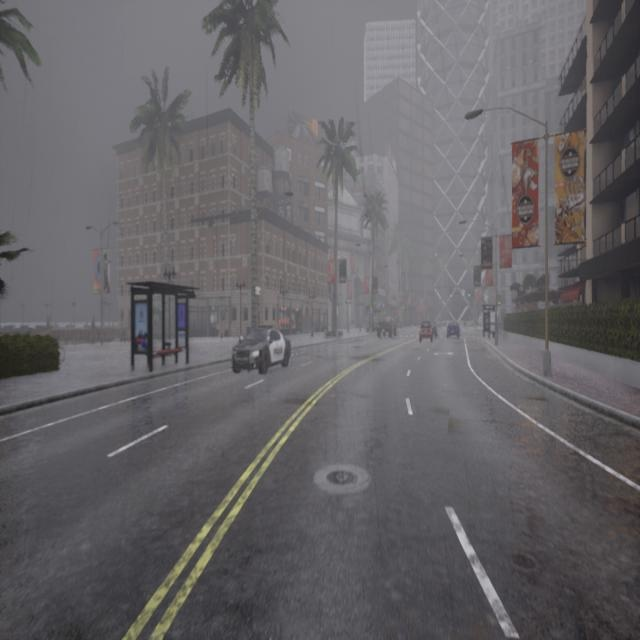bien_chi_dan: (497, 295, 501, 306), (468, 287, 471, 299), (450, 289, 452, 298), (498, 300, 501, 306), (450, 292, 452, 298), (468, 293, 471, 297)
